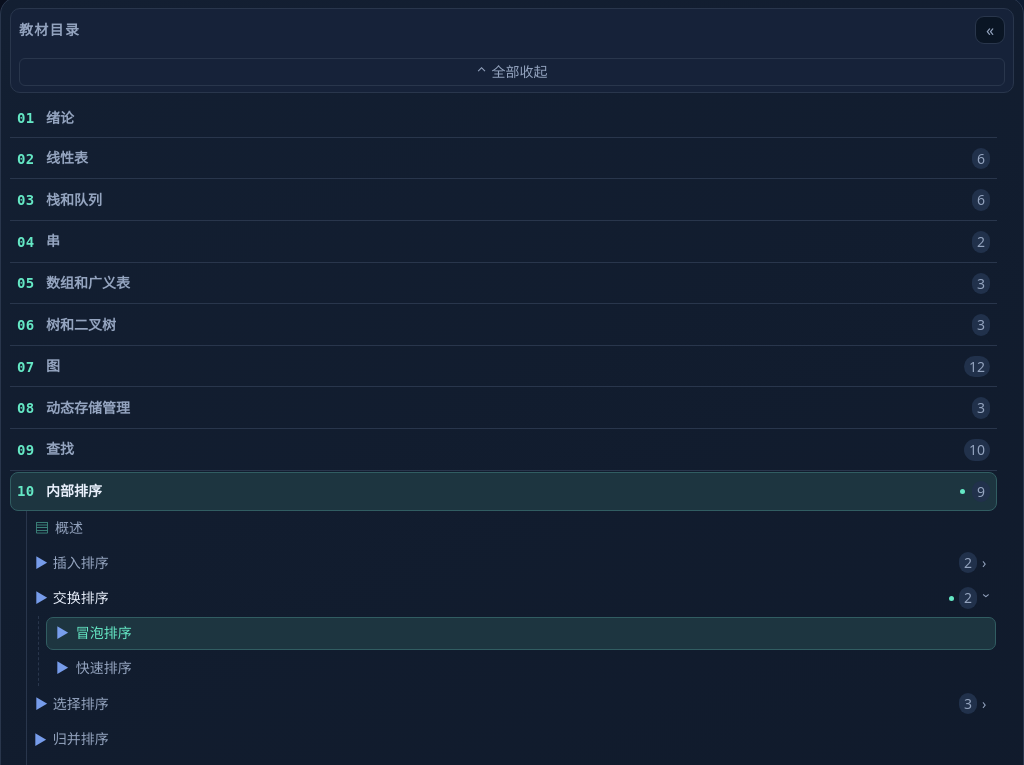
Test: AlgorithmSidebar — textbook chapters (UX-03) › allows multiple chapters and topics to be open without closing siblings
The image size is (1024, 765).
Click the button with test id "chapter-ch9-search" at (26, 450), box [10,430,997,470]
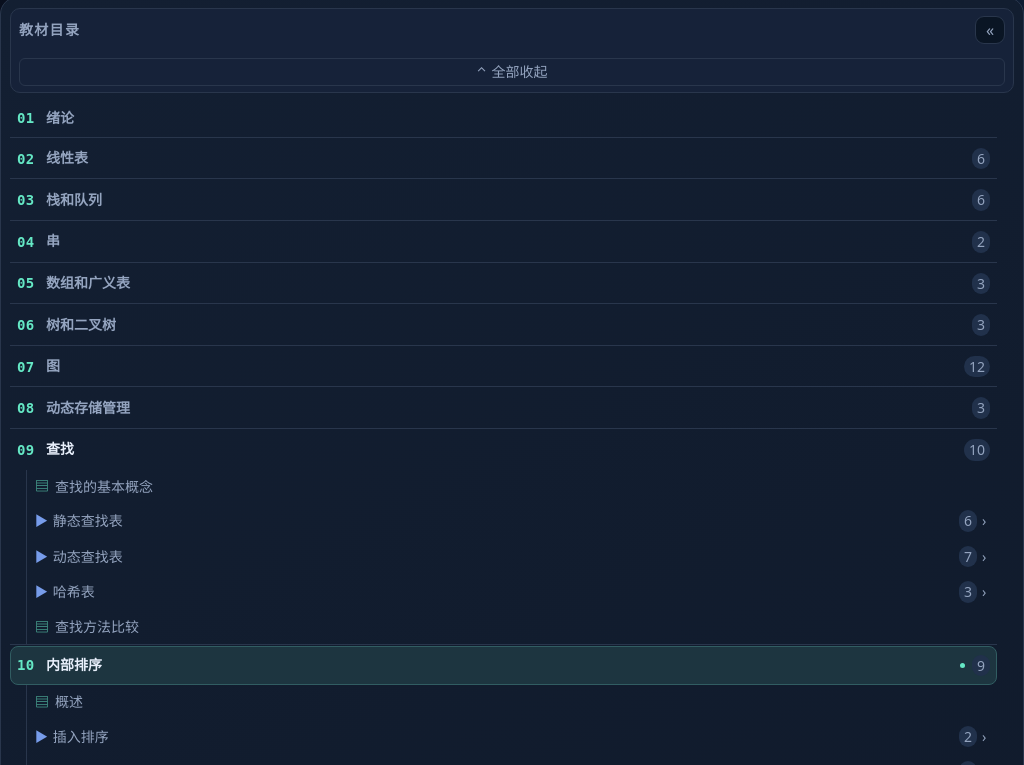
Check: the button with test id "chapter-ch9-search" is expanded, box [10,430,997,470]
Click the button with test id "topic-tree-search" at (88, 556), box [32,539,997,574]
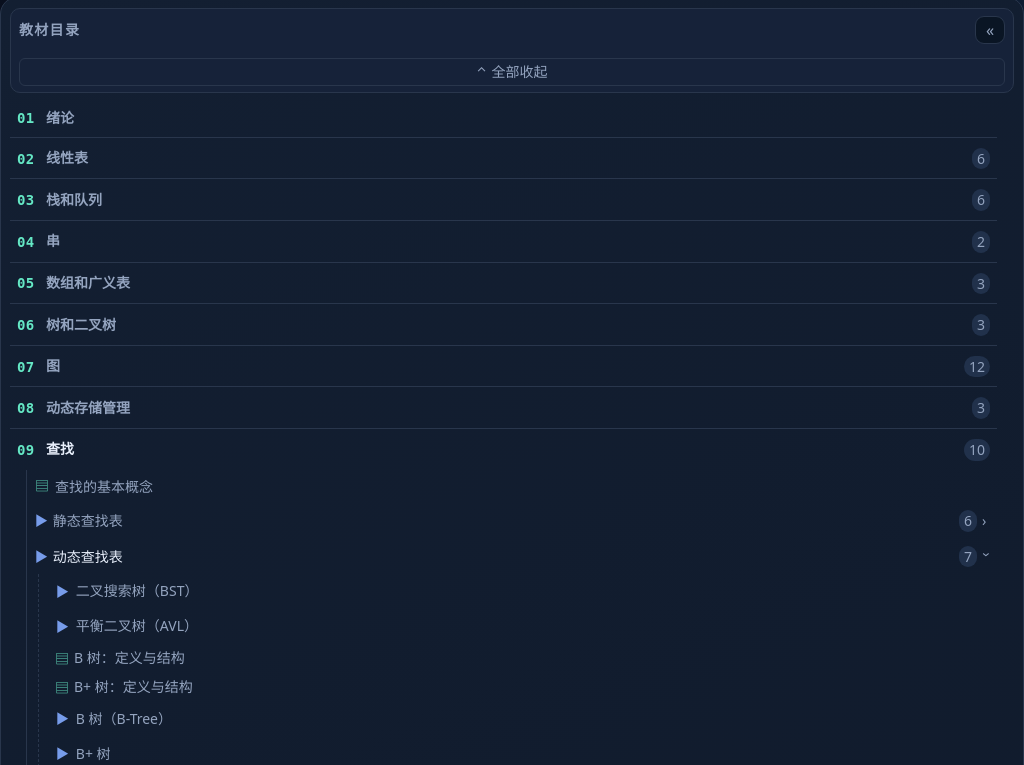
Check: the button with test id "algo-bst" is shown, box [46,575,996,608]
Click the button with test id "chapter-ch7-graph" at (26, 367), box [10,347,997,386]
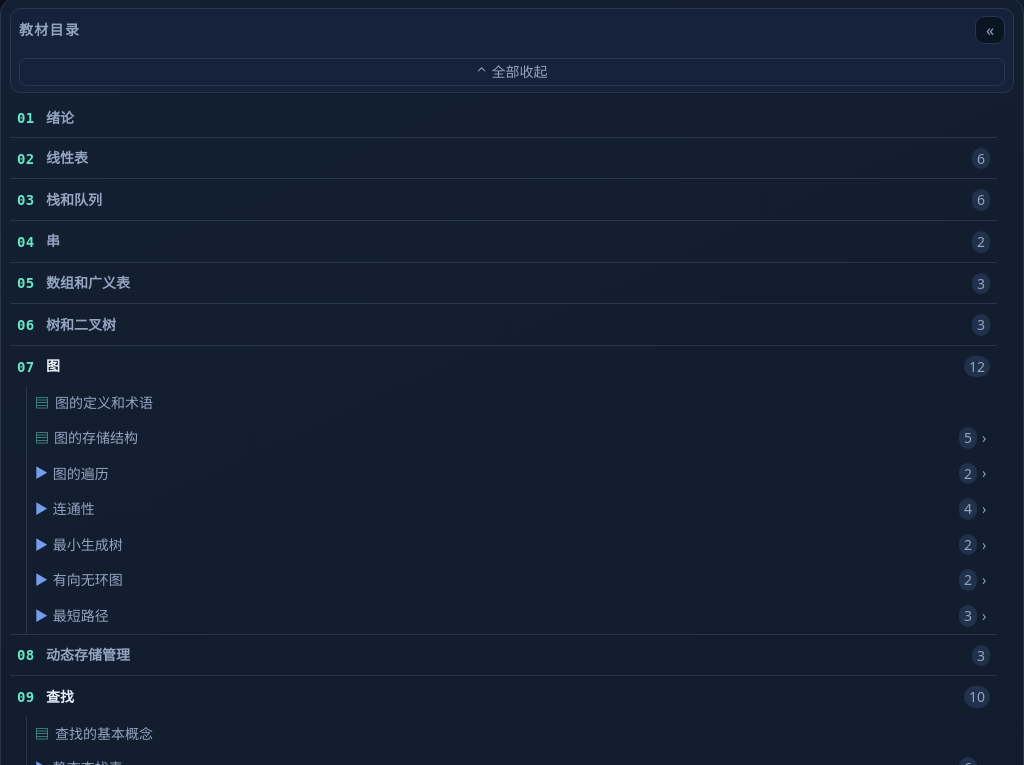
Click the button with test id "topic-mst" at (88, 544), box [32,527,997,562]
(page scrolled)
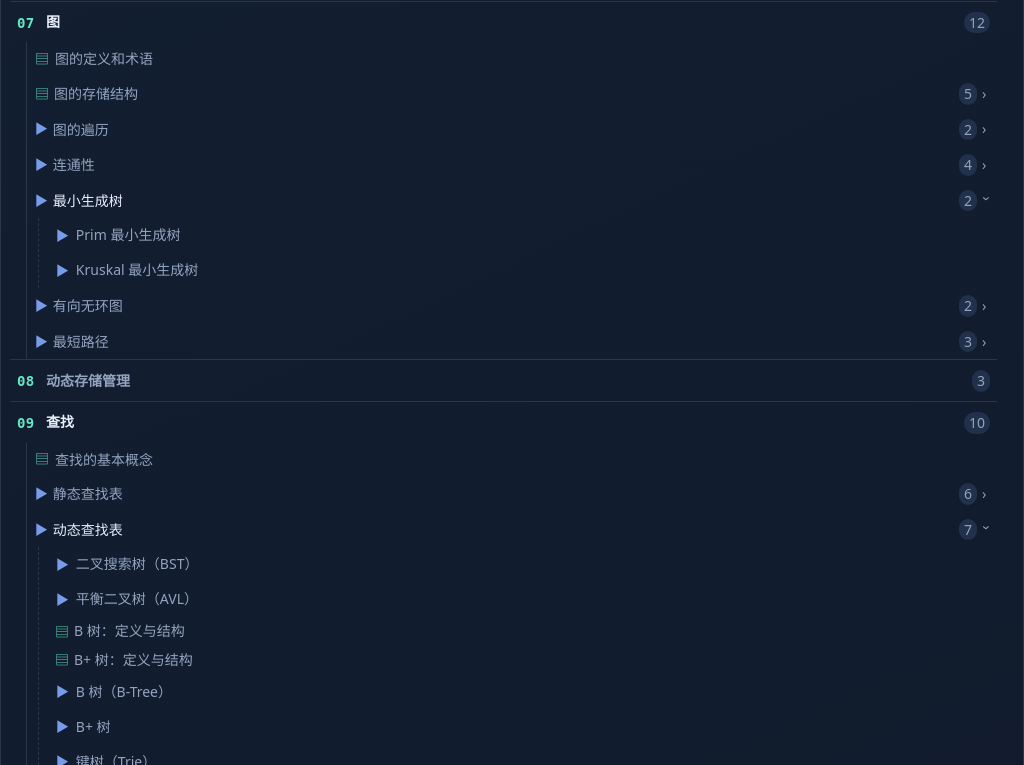
Check: the button with test id "topic-mst" is expanded, box [32,183,997,218]
Check: the button with test id "algo-prim" is shown, box [46,219,996,252]
Click the button with test id "chapter-ch9-search" at (26, 423), box [10,403,997,443]
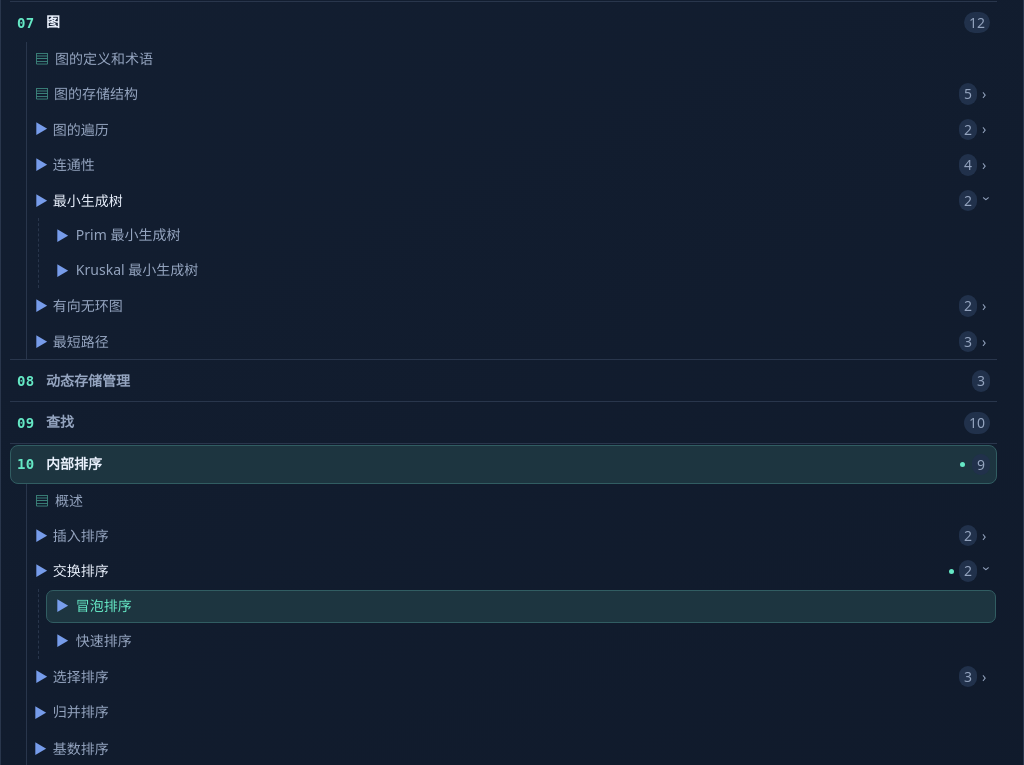
Check: the button with test id "chapter-ch9-search" is collapsed, box [10,403,997,443]
